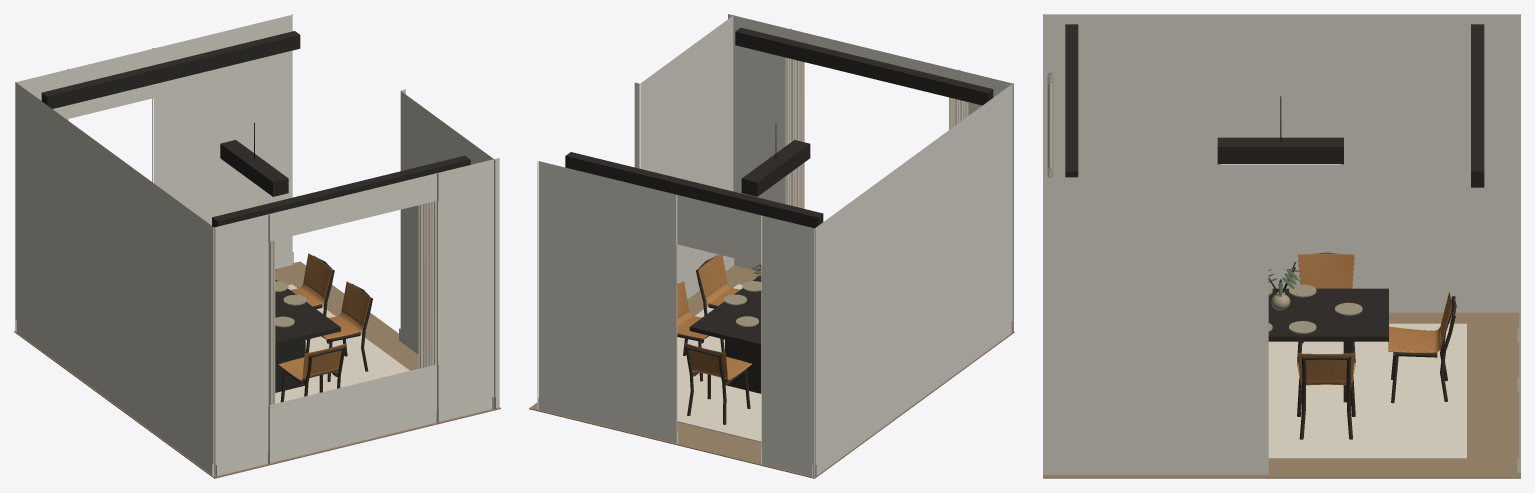
The model's file is dining-1.glb.
3 views of the same model, side by side, from view 1: azimuth 30°, elevation 25°; view 2: azimuth 150°, elevation 25°; view 3: azimuth 270°, elevation 25° (orthographic). The views are drawn at different scales.
Parts seen in each view (by area): view 1: DESIGN | dining removable wall finish, DESIGN | Dining timber threshold.001, DESIGN | dining floor finish, DESIGN | Dining ground, DESIGN | Dining linen edge.001, DESIGN | Dining timber threshold, DESIGN | Dining table top, DESIGN | Required Isadora dining chair 3, DESIGN | Dining light 1 shade, DESIGN | Required Isadora dining chair 5, DESIGN | Required Isadora dining chair 4, DESIGN | Dining linen edge (+1 smaller); view 2: DESIGN | dining removable wall finish, DESIGN | Dining timber threshold, DESIGN | Dining ground, DESIGN | Dining timber threshold.001, DESIGN | dining floor finish, DESIGN | Dining linen edge.001, DESIGN | Dining table top, DESIGN | Required Isadora dining chair 6, DESIGN | Dining light 1 shade, DESIGN | Required Isadora dining chair 3, DESIGN | Dining table trestle.001, DESIGN | Required Isadora dining chair 4; view 3: DESIGN | dining removable wall finish, DESIGN | Dining ground, DESIGN | dining floor finish, DESIGN | Dining table top, DESIGN | Dining light 1 shade, DESIGN | Required Isadora dining chair 6, DESIGN | Required Isadora dining chair 4, DESIGN | Dining timber threshold.001, DESIGN | Dining timber threshold, DESIGN | Required Isadora dining chair 2, DESIGN | Dining linen edge.
Boxes of the visible parts, box(x1,y1,x2,y2) form: DESIGN | dining removable wall finish: box(15, 14, 499, 477); DESIGN | Dining timber threshold.001: box(41, 31, 300, 108); DESIGN | dining floor finish: box(14, 261, 500, 478); DESIGN | Dining ground: box(275, 284, 409, 403); DESIGN | Dining linen edge.001: box(418, 201, 436, 368); DESIGN | Dining timber threshold: box(212, 155, 470, 227); DESIGN | Dining table top: box(275, 279, 340, 347); DESIGN | Required Isadora dining chair 3: box(305, 281, 372, 381); DESIGN | Dining light 1 shade: box(220, 140, 288, 196); DESIGN | Required Isadora dining chair 5: box(278, 343, 345, 402); DESIGN | Required Isadora dining chair 4: box(290, 253, 334, 343); DESIGN | Dining linen edge: box(268, 240, 275, 405); DESIGN | dining removable wall finish: box(537, 14, 1013, 477); DESIGN | Dining timber threshold: box(735, 27, 993, 105); DESIGN | Dining ground: box(677, 284, 761, 442); DESIGN | Dining timber threshold.001: box(565, 152, 823, 228); DESIGN | dining floor finish: box(529, 265, 1014, 478); DESIGN | Dining linen edge.001: box(785, 57, 804, 208); DESIGN | Dining table top: box(689, 277, 761, 348); DESIGN | Required Isadora dining chair 6: box(684, 343, 751, 424); DESIGN | Dining light 1 shade: box(741, 140, 810, 196); DESIGN | Required Isadora dining chair 3: box(696, 254, 740, 343); DESIGN | Dining table trestle.001: box(725, 339, 761, 393); DESIGN | Required Isadora dining chair 4: box(677, 281, 724, 381); DESIGN | dining removable wall finish: box(1043, 14, 1520, 474); DESIGN | Dining ground: box(1268, 323, 1466, 459); DESIGN | dining floor finish: box(1043, 312, 1520, 478); DESIGN | Dining table top: box(1268, 288, 1388, 341); DESIGN | Dining light 1 shade: box(1217, 137, 1343, 164); DESIGN | Required Isadora dining chair 6: box(1388, 292, 1456, 403); DESIGN | Required Isadora dining chair 4: box(1297, 353, 1355, 439); DESIGN | Dining timber threshold.001: box(1471, 24, 1484, 187); DESIGN | Dining timber threshold: box(1065, 24, 1078, 177); DESIGN | Required Isadora dining chair 2: box(1297, 252, 1355, 365); DESIGN | Dining linen edge: box(1047, 72, 1053, 170).
Size of the model in its own units: 3.28 by 2.74 by 3.98.
